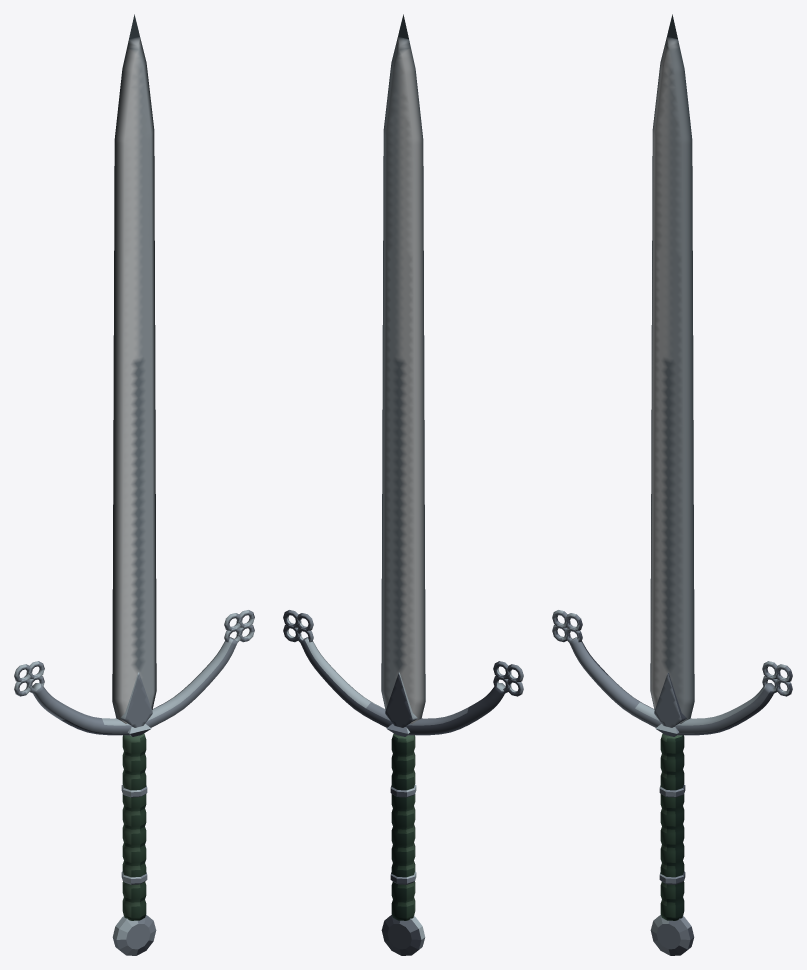
The model's file is w_highland_claymore.glb.
3 views of the same model, side by side, from view 1: azimuth 30°, elevation 25°; view 2: azimuth 150°, elevation 25°; view 3: azimuth 330°, elevation 25° (orthographic).
Parts seen in each view (by area): view 1: Weapon; view 2: Weapon; view 3: Weapon.
Part boxes in pixels (x1,y1,x2,y2): Weapon: (14, 14, 254, 955); Weapon: (283, 14, 523, 955); Weapon: (552, 14, 792, 955).
Bounding box in the file's own units: 0.4356 × 1.63 × 0.042.
